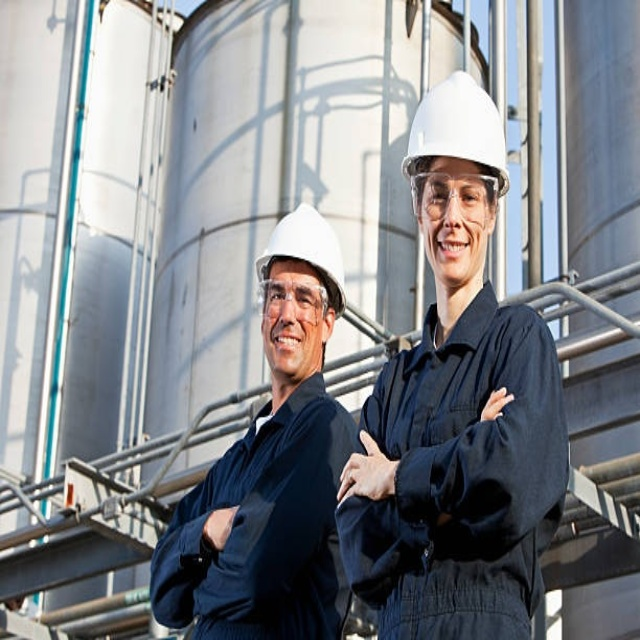Gafas: (408, 168, 500, 221), (257, 275, 330, 324)
Sin_guantes: (336, 427, 394, 508)
Sin_mascara: (438, 238, 471, 256), (272, 330, 302, 349)
